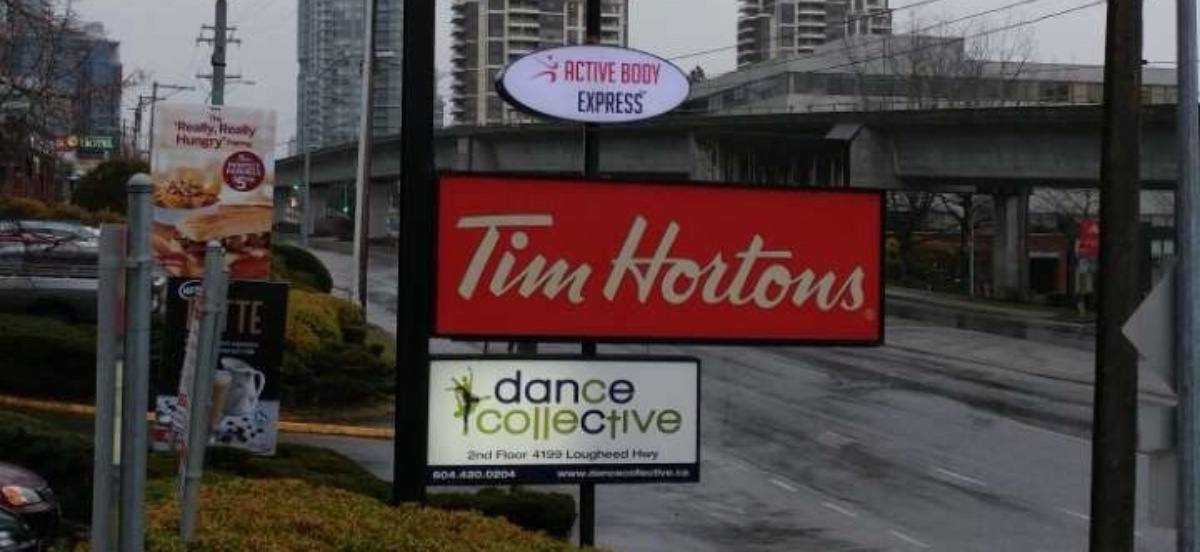text: (609, 212, 624, 314), (625, 212, 640, 314), (641, 212, 656, 314), (657, 212, 672, 314), (673, 212, 688, 314), (689, 212, 704, 314), (705, 212, 720, 314), (721, 212, 736, 314), (737, 212, 752, 314), (753, 212, 768, 314), (769, 212, 784, 314), (785, 212, 800, 314), (801, 212, 816, 314), (817, 212, 832, 314), (833, 212, 848, 314), (849, 212, 864, 314), (465, 212, 480, 306), (481, 212, 496, 306), (497, 212, 512, 306), (513, 212, 528, 306), (529, 212, 544, 306), (545, 212, 560, 306), (561, 212, 576, 306), (577, 212, 592, 306), (452, 212, 464, 306), (241, 296, 256, 339), (602, 212, 608, 314), (497, 369, 512, 404), (513, 369, 528, 404), (529, 369, 544, 404), (545, 369, 560, 404), (561, 369, 576, 404), (577, 369, 592, 404), (593, 369, 608, 404), (609, 369, 624, 404), (481, 406, 496, 441), (497, 406, 512, 441), (513, 406, 528, 441), (529, 406, 544, 441), (545, 406, 560, 441), (561, 406, 576, 441), (577, 406, 592, 441), (593, 406, 608, 441), (609, 406, 624, 441), (625, 406, 640, 441), (641, 406, 656, 441), (657, 406, 672, 441), (257, 296, 269, 339), (625, 369, 637, 404), (577, 59, 592, 84), (593, 59, 608, 84), (625, 62, 640, 86), (641, 62, 656, 86), (577, 91, 592, 114), (593, 91, 608, 114), (609, 91, 624, 114), (625, 91, 640, 114), (241, 121, 257, 141), (673, 406, 682, 441), (564, 59, 576, 84), (225, 121, 240, 141), (593, 212, 596, 306), (234, 296, 240, 339), (177, 119, 192, 136), (193, 119, 208, 136), (177, 134, 192, 151), (193, 134, 208, 151), (209, 134, 224, 151), (225, 162, 240, 179), (241, 162, 256, 179), (609, 59, 619, 84), (241, 176, 257, 191), (577, 447, 592, 462), (593, 447, 608, 462), (609, 447, 624, 462), (625, 447, 640, 462), (641, 447, 656, 462), (97, 137, 112, 152), (466, 447, 480, 462), (82, 137, 96, 152), (865, 212, 867, 314), (481, 447, 494, 462), (513, 449, 529, 461), (497, 449, 512, 461), (545, 449, 560, 461), (433, 469, 448, 481), (465, 469, 480, 481), (481, 469, 496, 481), (497, 469, 512, 481), (566, 447, 576, 462), (561, 469, 576, 479), (577, 469, 592, 479), (593, 469, 608, 479), (609, 469, 624, 479), (625, 469, 640, 479), (641, 469, 656, 479), (657, 469, 672, 479), (673, 469, 688, 479), (532, 449, 544, 461), (217, 121, 224, 141), (209, 119, 217, 136), (241, 349, 257, 357), (193, 286, 204, 297), (657, 62, 662, 86), (225, 341, 240, 349), (241, 341, 256, 349), (225, 349, 240, 357), (232, 176, 240, 191), (257, 162, 264, 179), (182, 286, 192, 297), (477, 406, 480, 441), (449, 469, 456, 481), (457, 469, 464, 481), (657, 447, 662, 462), (494, 369, 496, 404), (641, 91, 644, 114), (561, 449, 566, 461), (113, 137, 117, 152), (217, 349, 224, 357), (622, 62, 624, 86), (556, 469, 560, 479), (219, 341, 224, 349), (257, 341, 262, 349), (513, 469, 516, 481), (174, 119, 176, 136), (174, 134, 176, 151), (689, 469, 692, 479), (494, 449, 496, 461)
